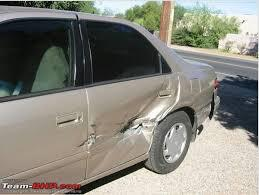doorouter-dent: (91, 88, 169, 171)
